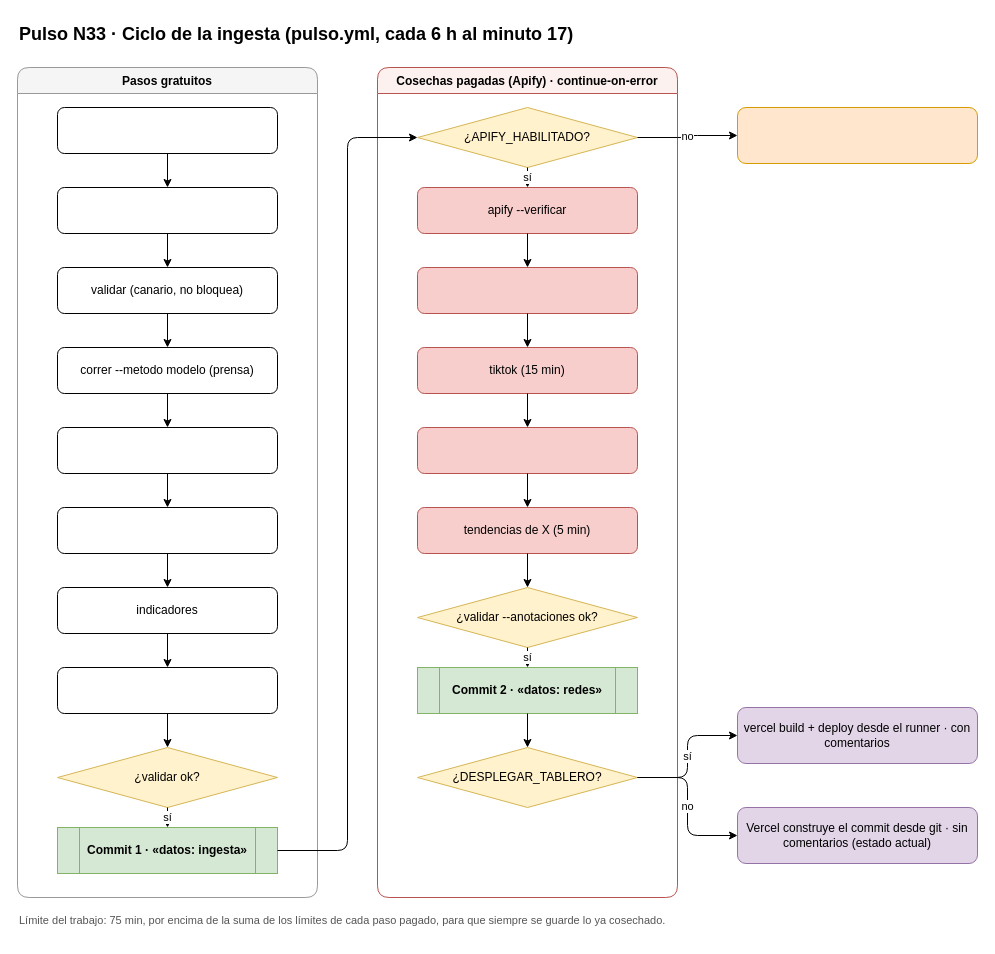
Image size: 995x954. Some labels were removed from this diagram. The shapes that lost their labels are listed below. From the top down, each one's centre as x and y in pixels, then its label:
At point 167,130: "checkout · Python 3.11 · modelo de tono".
At point 857,135: "Anotación de aviso; solo se publica la prensa".
At point 167,210: "pruebas unittest".
At point 527,290: "redes · Instagram (15 min)".
At point 167,450: "comunicados".
At point 527,450: "facebook (10 min)".
At point 167,530: "youtube (feeds públicos)".
At point 167,690: "gasto-electoral (solo lunes)".
